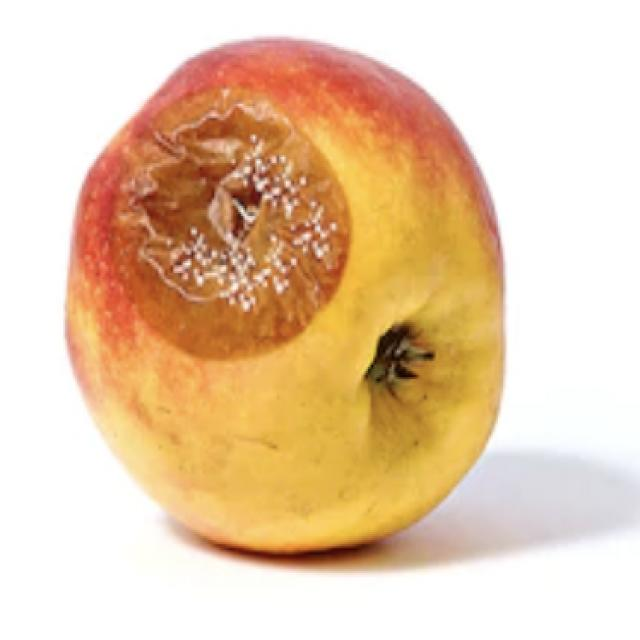rotten_apple: (60, 33, 505, 553)
